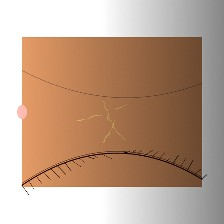corneal_ulcer: (74, 93, 137, 143)
